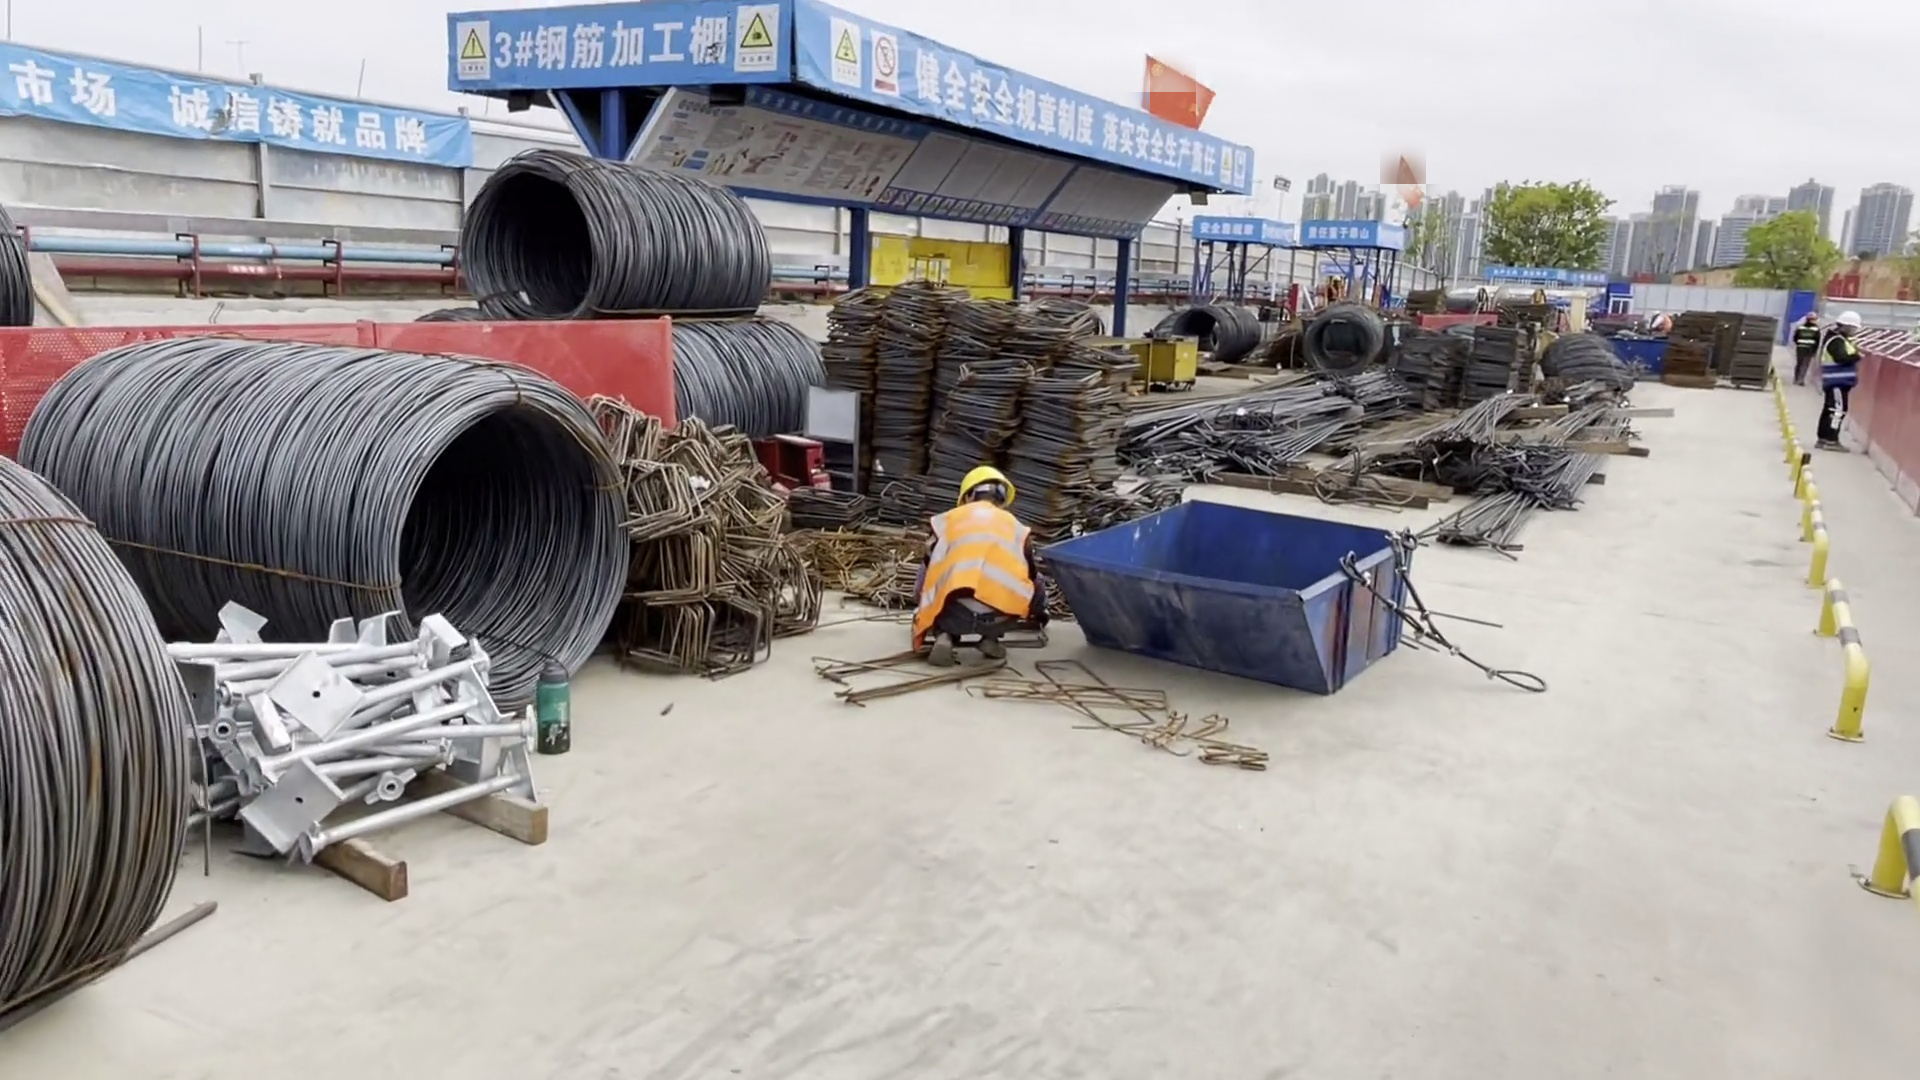ebox: (867, 233, 955, 283), (1143, 329, 1205, 393)
fence: (18, 63, 459, 265)
helmet: (951, 461, 1023, 500), (1835, 309, 1863, 326), (1805, 310, 1820, 320), (1650, 310, 1663, 320)
hopper: (1095, 480, 1426, 699)
person: (913, 456, 1062, 677), (1816, 308, 1866, 460), (1787, 308, 1823, 392), (1642, 304, 1676, 341), (1329, 272, 1344, 304)
slogan: (800, 8, 1250, 191), (25, 56, 453, 173), (466, 16, 790, 75), (1308, 228, 1371, 251), (1199, 220, 1258, 238)
vest: (915, 504, 1039, 625), (1823, 338, 1857, 389), (1794, 323, 1817, 353), (1660, 314, 1674, 332)
